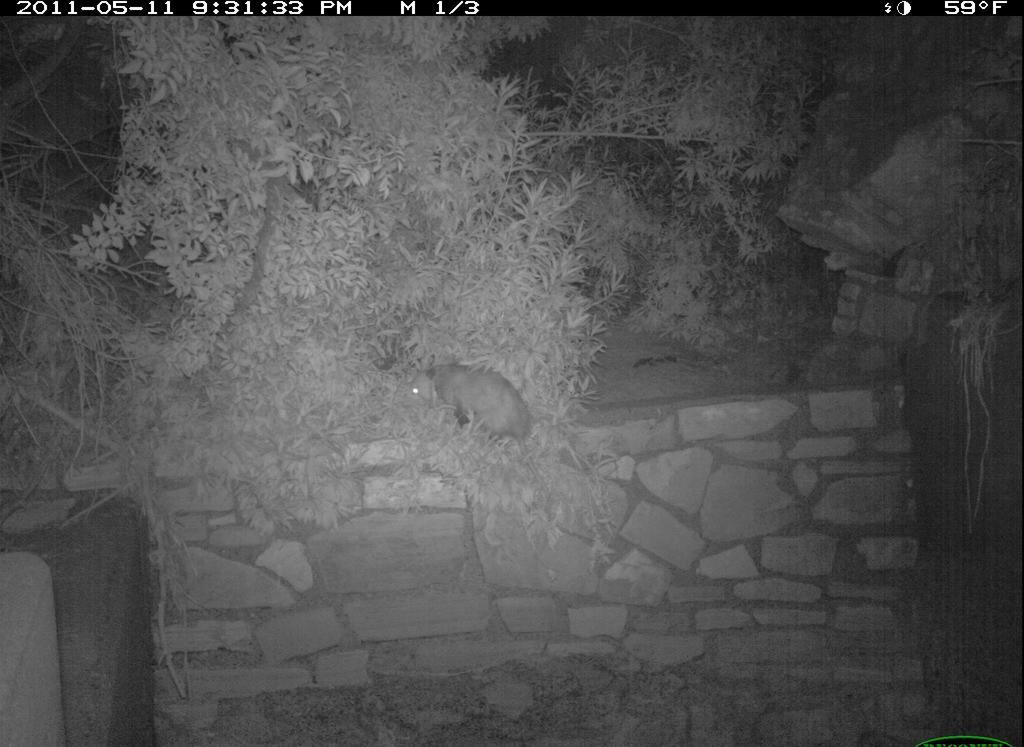opossum: (395, 356, 552, 498)
